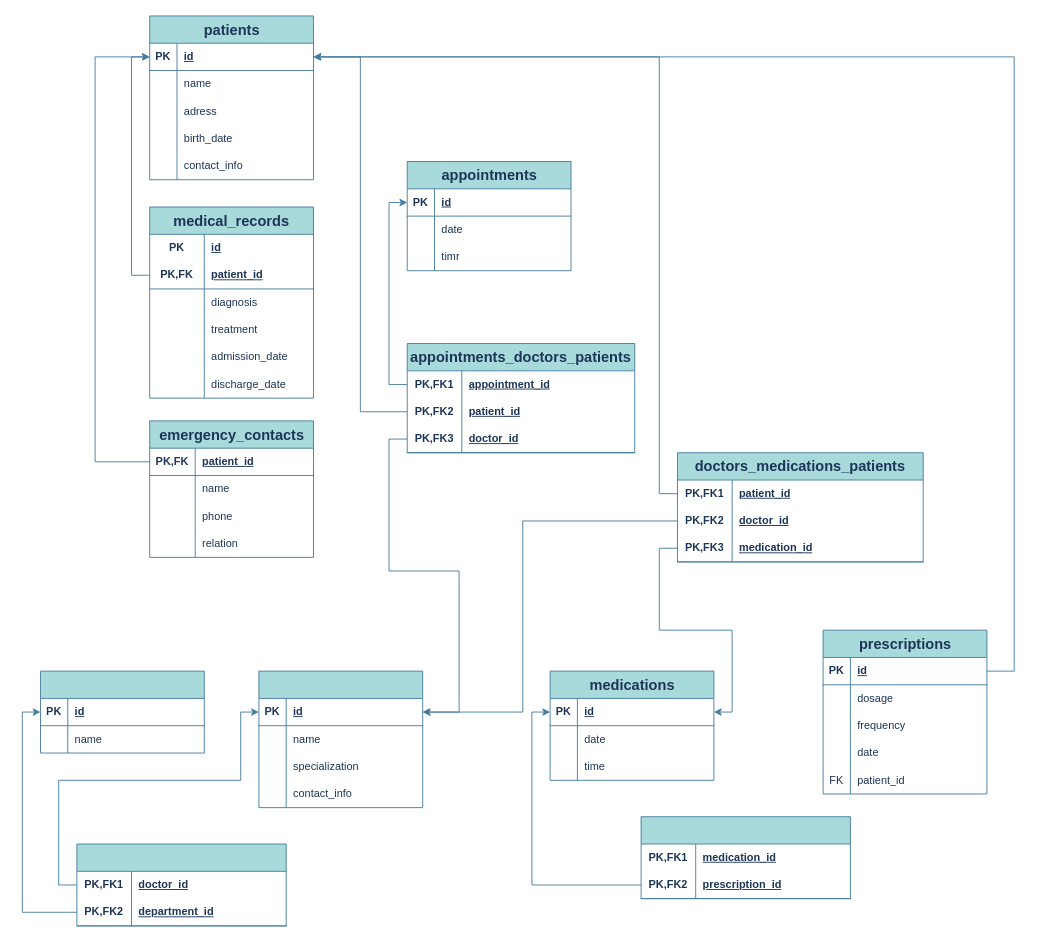
The diagram is 1037 pixels wide and 942 high, and some of its shapes have lost their labels. Each missing label, with the box of its shape:
departments: (40, 670, 204, 753)
departments_doctors: (76, 843, 286, 926)
doctors: (258, 670, 423, 808)
medications_ prescriptions: (640, 816, 850, 899)
